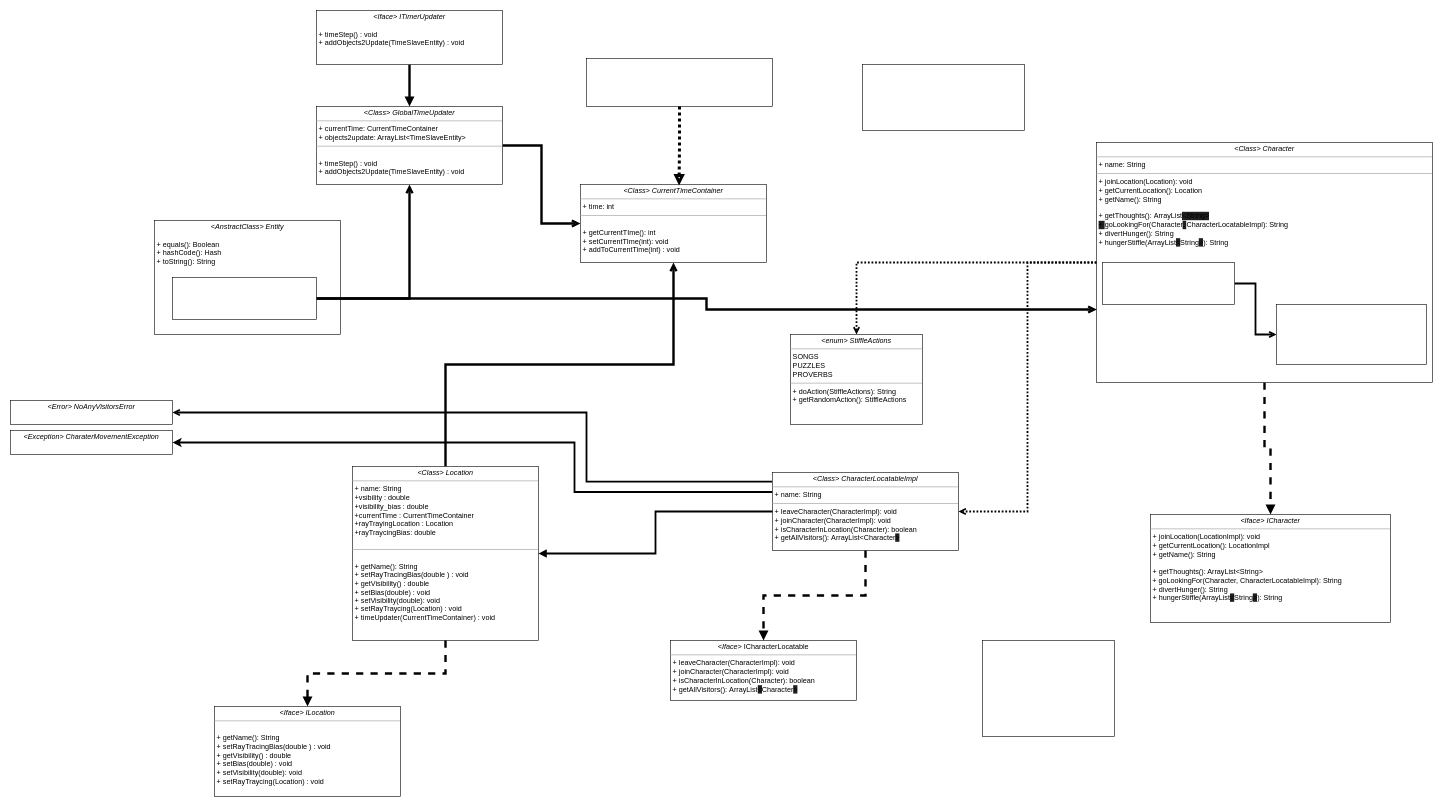
Some shapes in this 1443 by 807 pixel diagram are drawn without their labels. Each missing label, with the centre of its shape:
<AnstractClass > TimeSlaveEntity + timeUpdater(CurrentTimeContainer): void: [244,298]
<Class> Story + play(): void: [943,97]
<Class> TrashChest + makeSleepingPlaceFrom() : String: [1168,283]
<enum > Time MORNING NOON EVENING DAYEND NIGHT MIDNIGHT + getValue(): int: [1048,688]
<Enum> Trash RUBBER_PILLOWm OLD_MATTERS, CLOTH;: [1351,334]
<Iface> ITimeContainer + addObjects2Update(TimeSlaveEntity) : void: [679,82]
